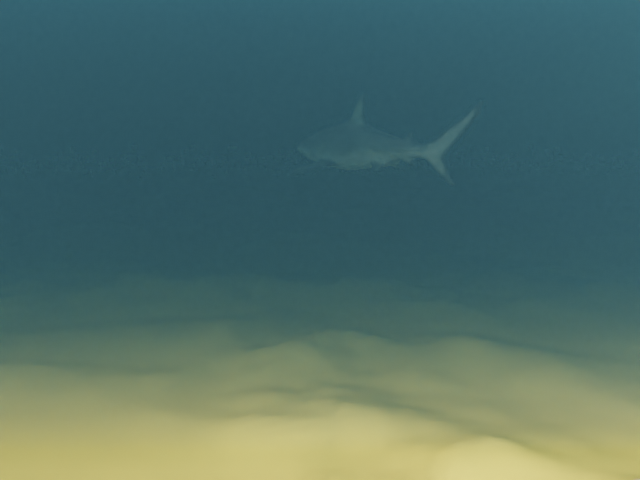Carribean Shark.001: (288, 94, 483, 185)
